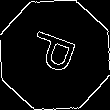P_E: (25, 29, 85, 81)
